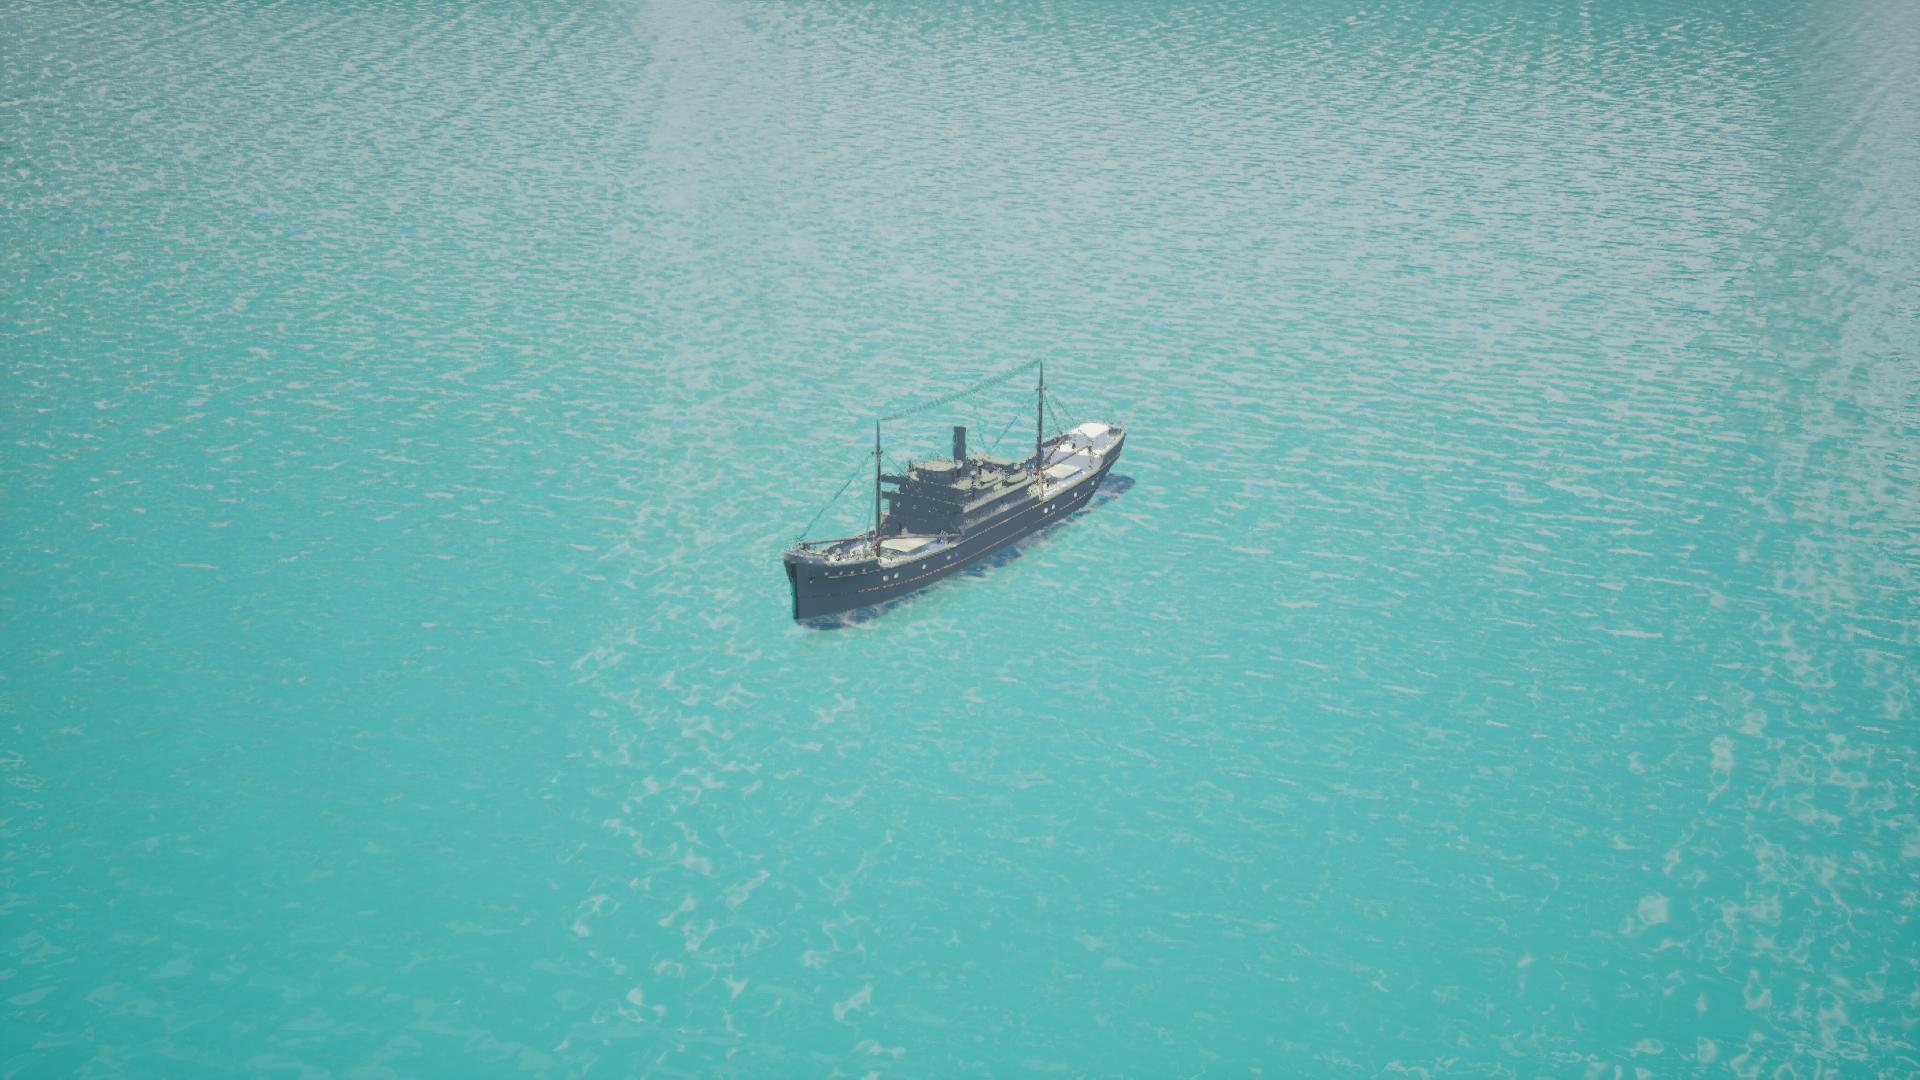Fishing Boat: (777, 418, 1135, 630)
